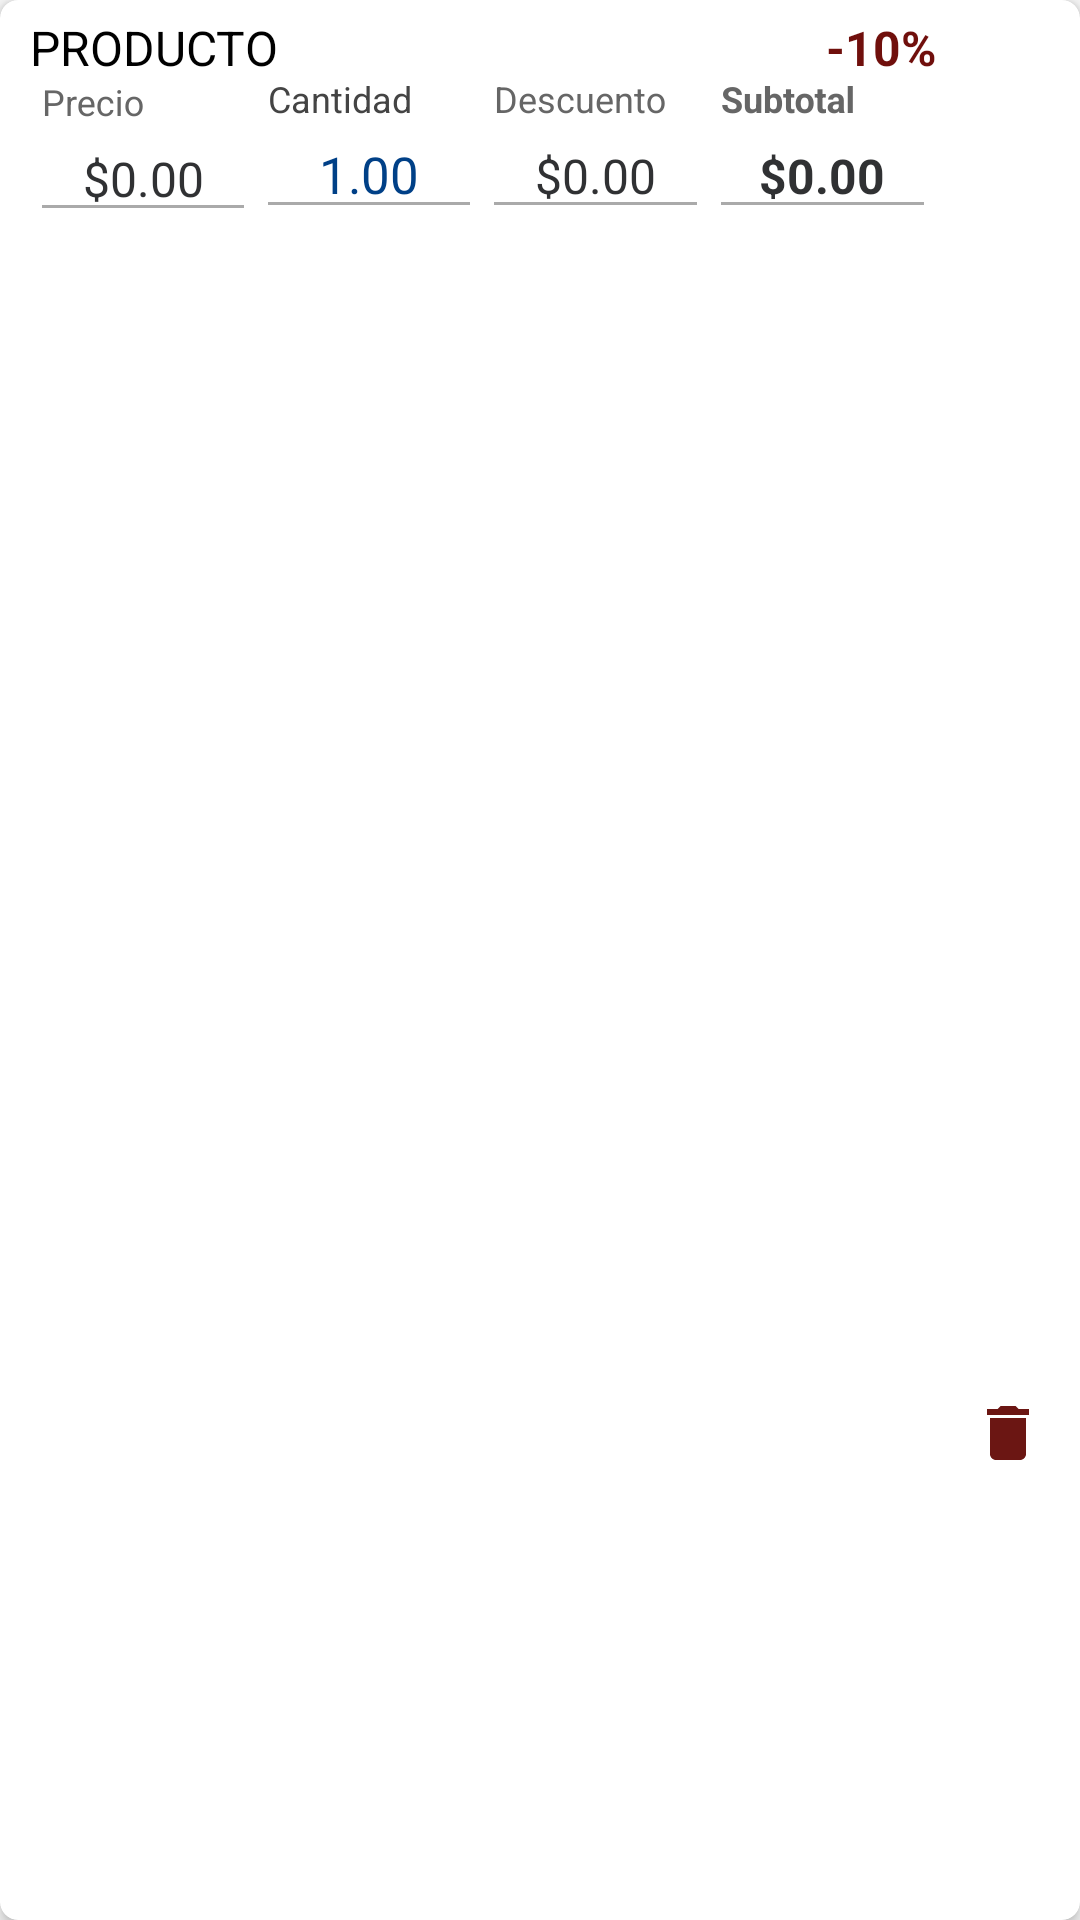

Named icons in this screenshot (1080×1920) and their centers, [x,y]:
delete: [1008,1433]
